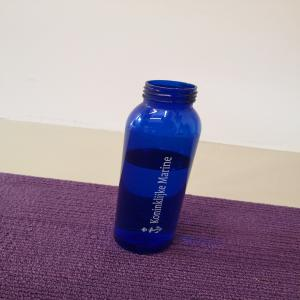Plastic-bottle: (113, 80, 204, 257)
